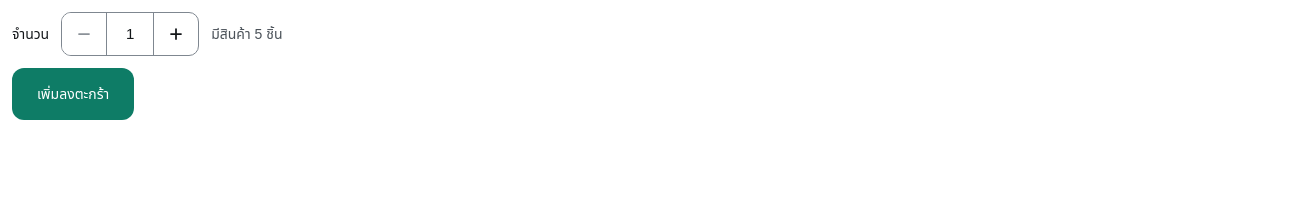
Test: AddToCart › says a product of the own store cannot be bought
Click the button "เพิ่มลงตะกร้า".
click(73, 94)  # box x1=12 y1=68 x2=134 y2=120
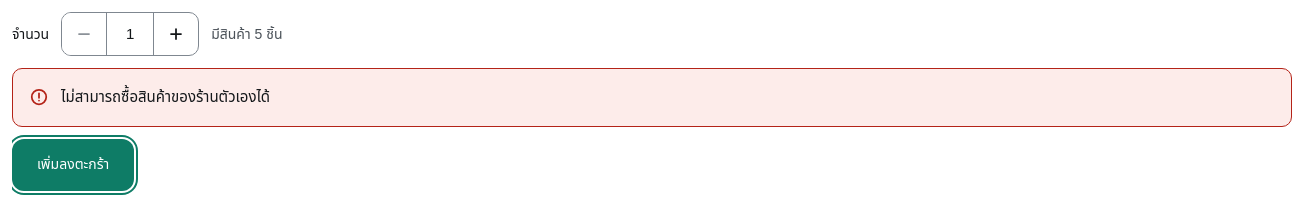
Now the text "ไม่สามารถซื้อสินค้าของร้านตัวเองได้" is shown, box x1=61 y1=88 x2=270 y2=105
